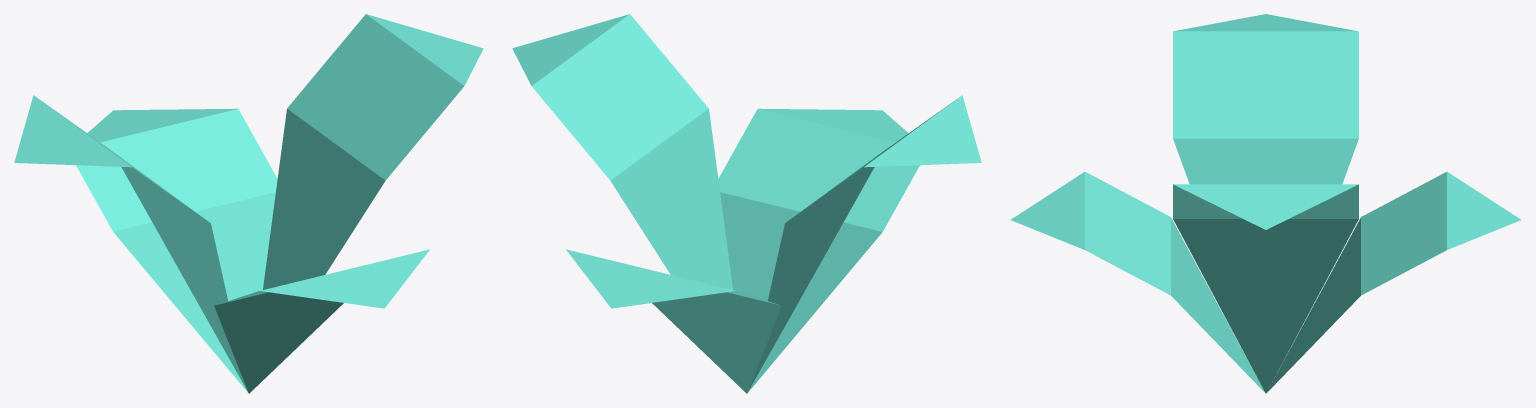
The model's file is plant_bush.glb.
3 renders of one model, left to right at view 1: azimuth 30°, elevation 25°; view 2: azimuth 150°, elevation 25°; view 3: azimuth 270°, elevation 25°, orthographic. The views are drawn at different scales.
Visible parts, largest first — view 1: plant_bush; view 2: plant_bush; view 3: plant_bush.
Part boxes in pixels (x1,y1,x2,y2): plant_bush: [14, 14, 483, 393]; plant_bush: [512, 14, 981, 393]; plant_bush: [1010, 14, 1521, 393].
Bounding box in the file's own units: 0.396 × 0.2444 × 0.396.
